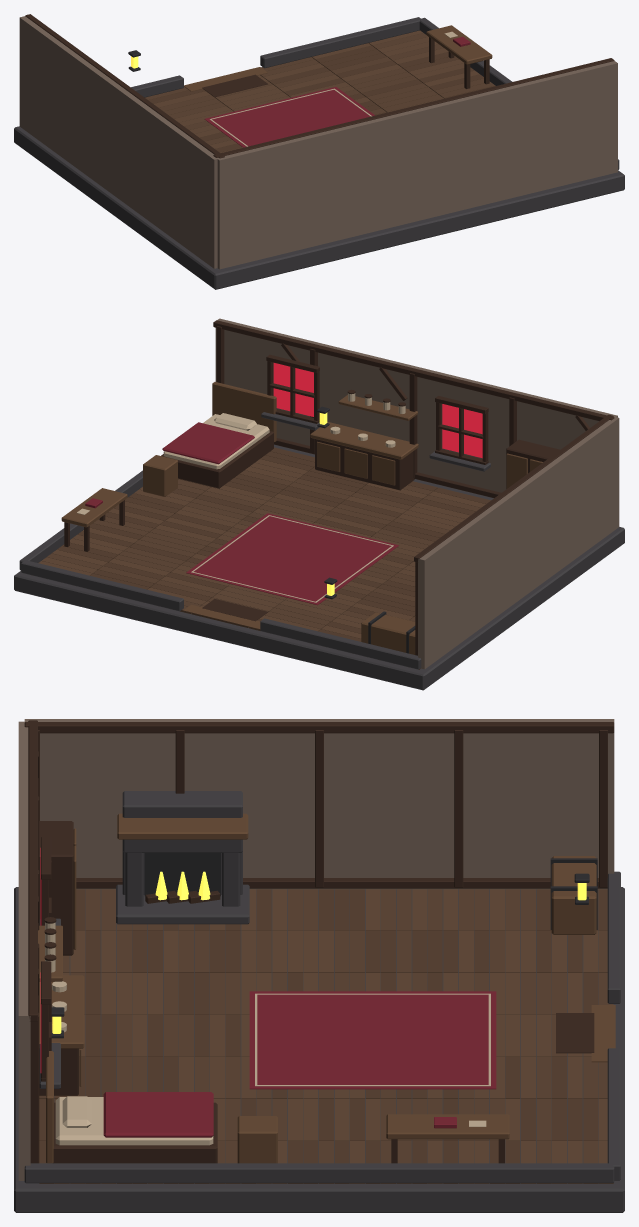
File: HomeInterior_CombatOpen.fbx
3 renders of one model, top to bottom at view 1: azimuth 30°, elevation 25°; view 2: azimuth 150°, elevation 25°; view 3: azimuth 270°, elevation 25°, orthographic. The views are drawn at different scales.
Visible parts, largest first — view 1: H1_Render_01, H1_Render_00, H1_Render_05, H1_Render_06, H1_Render_07, H1_Render_02, H1_Render_04, H1_Render_03, H1_Render_08; view 2: H1_Render_01, H1_Render_00, H1_Render_02, H1_Render_06, H1_Render_04, H1_Render_07, H1_Render_05, H1_Render_03, H1_Render_12, H1_Render_08; view 3: H1_Render_01, H1_Render_00, H1_Render_06, H1_Render_05, H1_Render_02, H1_Render_04, H1_Render_07, H1_Render_03, H1_Render_08, H1_Render_09, H1_Render_11.
Part boxes in pixels (x1,y1,x2,y2): H1_Render_01: (19, 16, 617, 269); H1_Render_00: (14, 17, 624, 289); H1_Render_05: (145, 33, 494, 144); H1_Render_06: (154, 30, 479, 152); H1_Render_07: (204, 36, 470, 147); H1_Render_02: (25, 14, 614, 158); H1_Render_04: (148, 45, 495, 152); H1_Render_03: (184, 25, 492, 91); H1_Render_08: (209, 31, 457, 146); H1_Render_01: (215, 318, 619, 669); H1_Render_00: (14, 412, 624, 690); H1_Render_02: (64, 320, 614, 655); H1_Render_06: (38, 459, 485, 638); H1_Render_04: (57, 447, 490, 669); H1_Render_07: (85, 422, 398, 605); H1_Render_05: (47, 470, 480, 630); H1_Render_03: (61, 382, 542, 654); H1_Render_12: (273, 363, 482, 458); H1_Render_08: (77, 393, 405, 602); H1_Render_01: (18, 719, 614, 1180); H1_Render_00: (14, 791, 624, 1212); H1_Render_06: (54, 889, 613, 1183); H1_Render_05: (63, 889, 613, 1183); H1_Render_02: (24, 720, 614, 1163); H1_Render_04: (39, 889, 607, 1183); H1_Render_07: (103, 991, 496, 1137); H1_Render_03: (38, 813, 615, 1163); H1_Render_08: (45, 922, 490, 1145); H1_Render_09: (51, 853, 597, 1038); H1_Render_11: (52, 871, 586, 1033).
Bounding box in the file's own units: 1340 × 401 × 1140.
